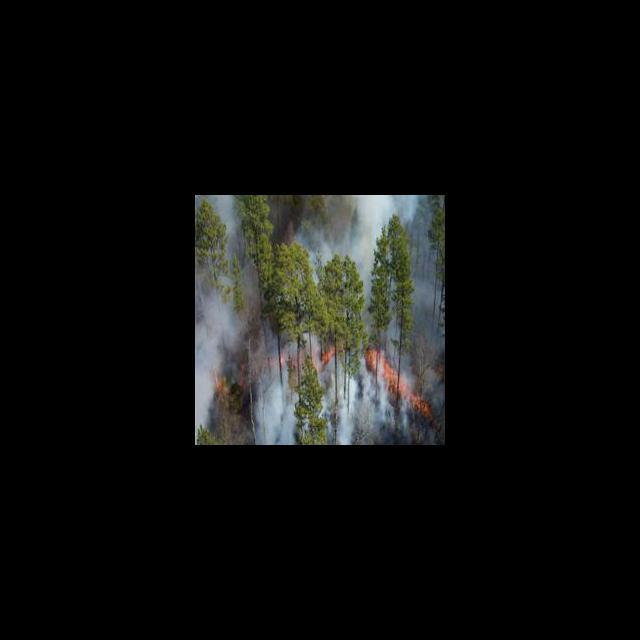Fire: (360, 348, 429, 415), (318, 342, 345, 371), (267, 354, 301, 368)
Smoke: (296, 196, 414, 266), (195, 305, 240, 445), (322, 376, 381, 444), (256, 372, 297, 444)
